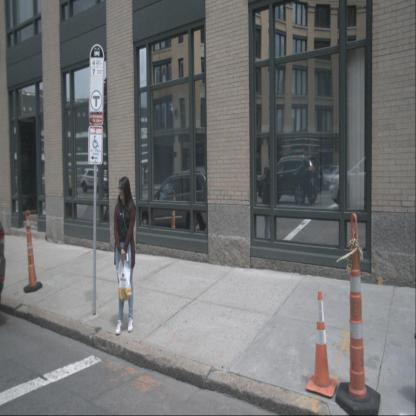human-pedestrian-adult: (113, 176, 136, 336), (262, 168, 272, 247)
movable_object-trafficcone: (335, 213, 381, 416), (306, 290, 338, 398), (23, 210, 42, 293), (169, 190, 179, 249)
vehicle-car: (142, 171, 207, 234), (257, 154, 324, 205), (329, 158, 365, 209), (80, 168, 108, 192), (322, 164, 349, 187)
